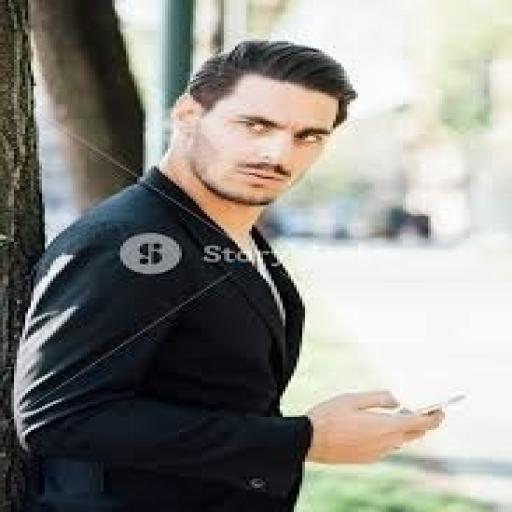texting: (8, 37, 448, 510)
